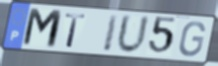5: (147, 16, 178, 58)
G: (177, 21, 207, 59)
I: (101, 13, 120, 53)
M: (21, 6, 65, 50)
T: (64, 13, 87, 49)
U: (115, 13, 152, 56)
